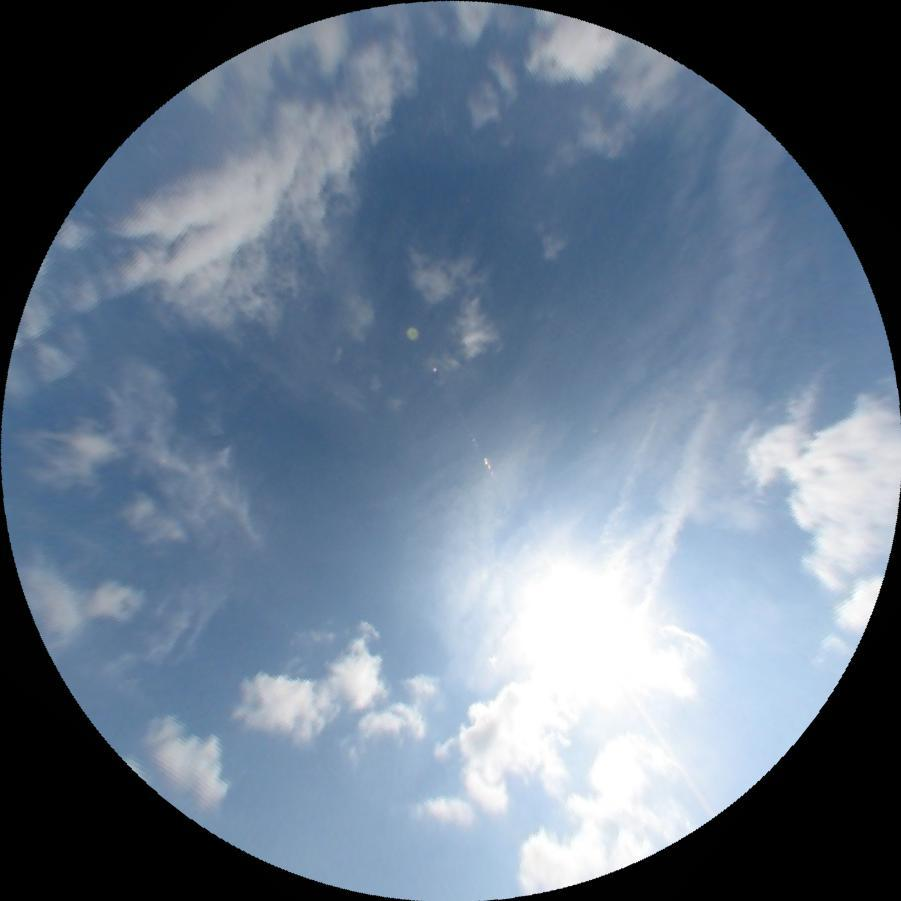contrail veryold: (634, 106, 792, 632), (586, 406, 676, 570)
parasite: (623, 684, 718, 816)
sun: (516, 571, 656, 720)
